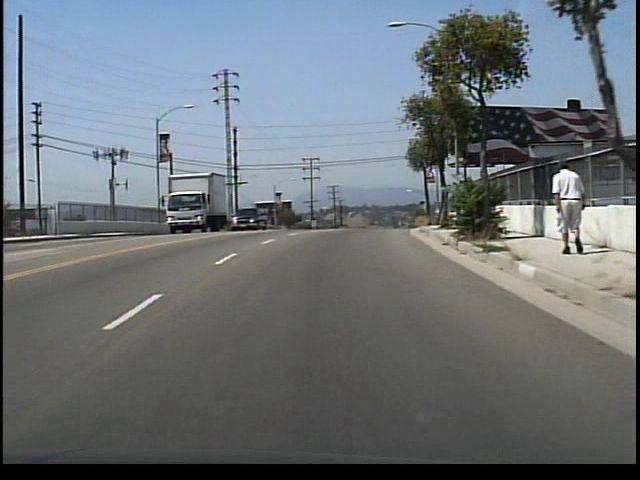person: (547, 156, 586, 258)
